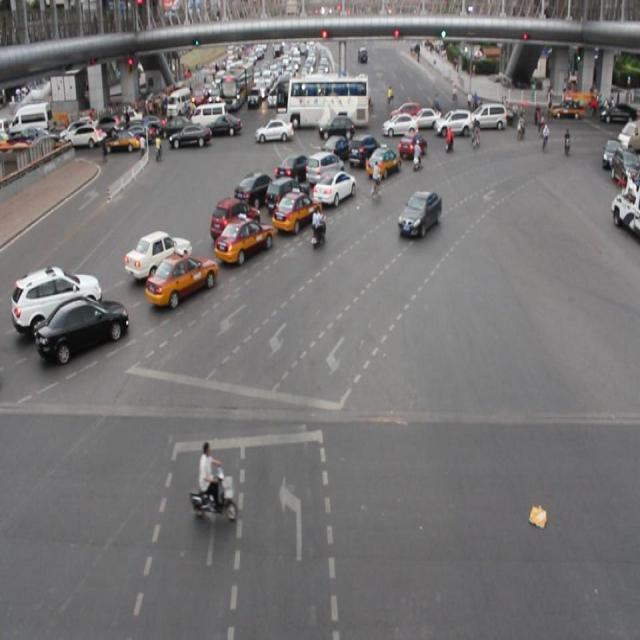car: (37, 296, 132, 357), (13, 267, 102, 328), (147, 256, 215, 302), (124, 230, 190, 276), (396, 186, 442, 238), (217, 216, 271, 258), (209, 198, 260, 235), (272, 190, 316, 230), (266, 174, 310, 212), (234, 171, 276, 207), (304, 151, 345, 187), (313, 169, 354, 204), (347, 133, 384, 166), (366, 144, 400, 177), (274, 153, 317, 178), (320, 134, 351, 163), (397, 133, 426, 161)
